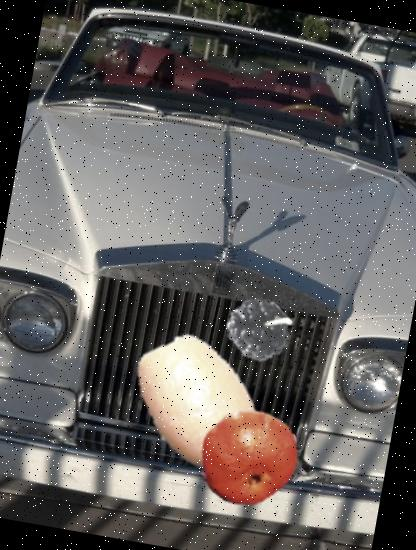Clementine: (185, 396, 308, 518)
Kumquats: (116, 321, 278, 483)
Mulberry: (202, 286, 296, 380)
